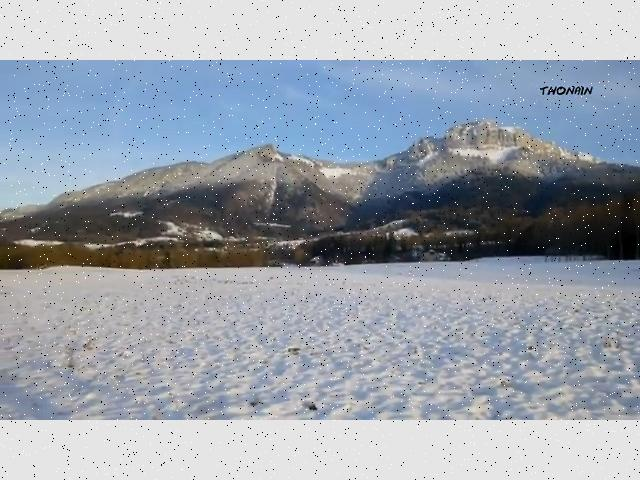Anti-Drone: (241, 214, 305, 236)
